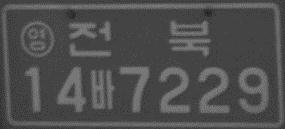1: (18, 64, 51, 113)
2: (157, 65, 190, 114), (197, 65, 230, 114)
4: (55, 66, 87, 113)
7: (119, 65, 151, 114)
9: (237, 67, 269, 114)
바: (89, 68, 115, 110)
영: (19, 21, 55, 57)
전북_D: (67, 21, 211, 58)
